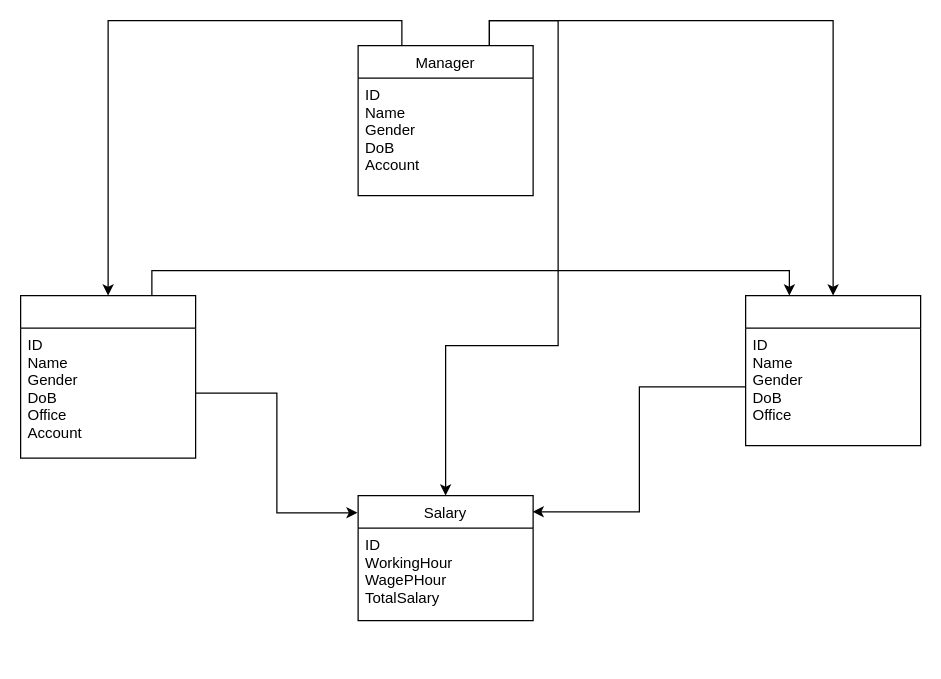
The diagram is 941 pixels wide and 679 high, and some of its shapes have lost their labels. The box of each missing label's shape, as (x1, y1, x2, y2) in pixels:
Employee: (744, 294, 921, 446)
Staff: (19, 294, 196, 458)
